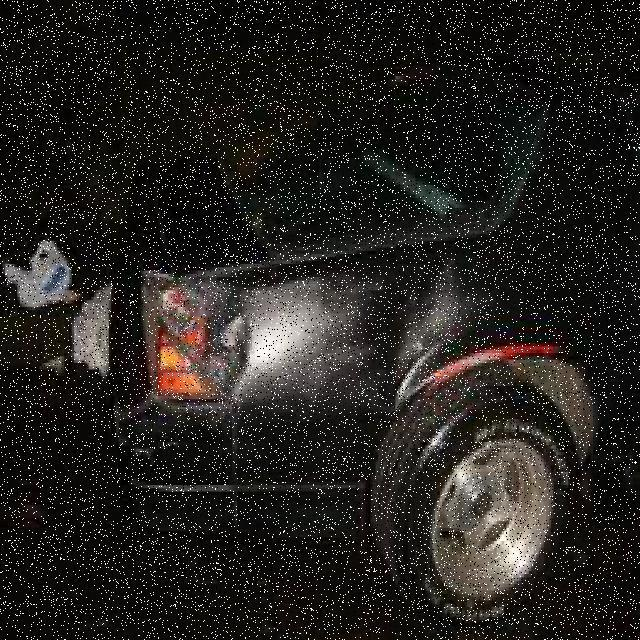car damage: (220, 241, 514, 505)
